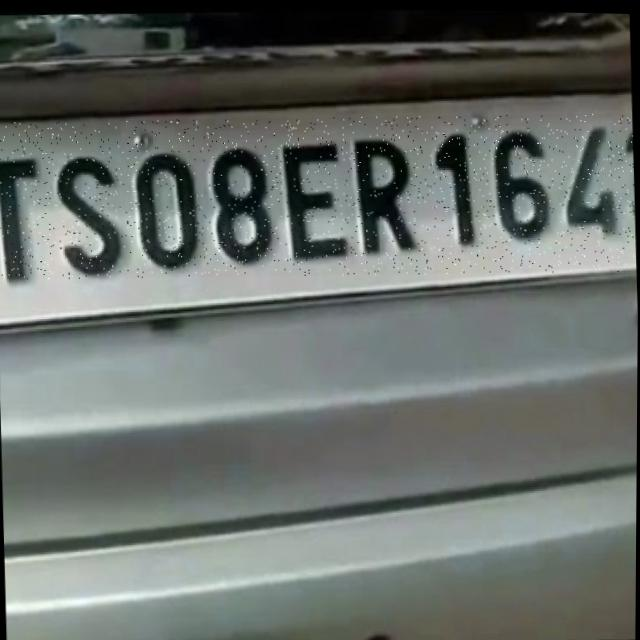license_plate: (0, 99, 637, 290)
